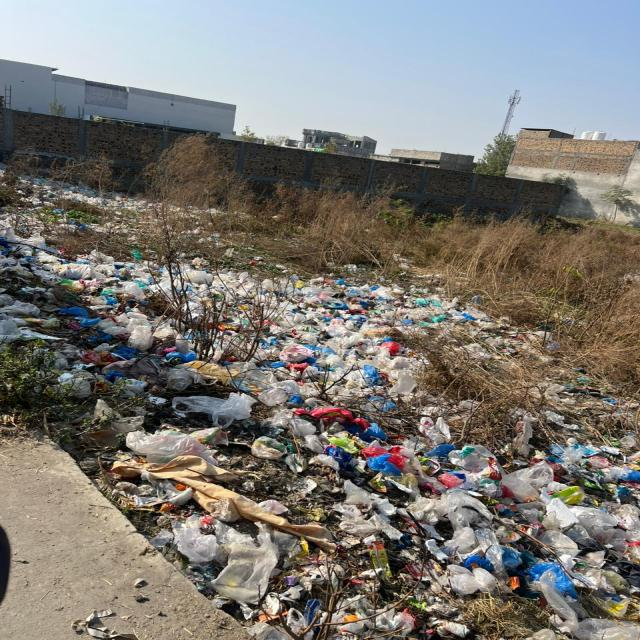garbage: (0, 270, 640, 639), (1, 180, 124, 268)
